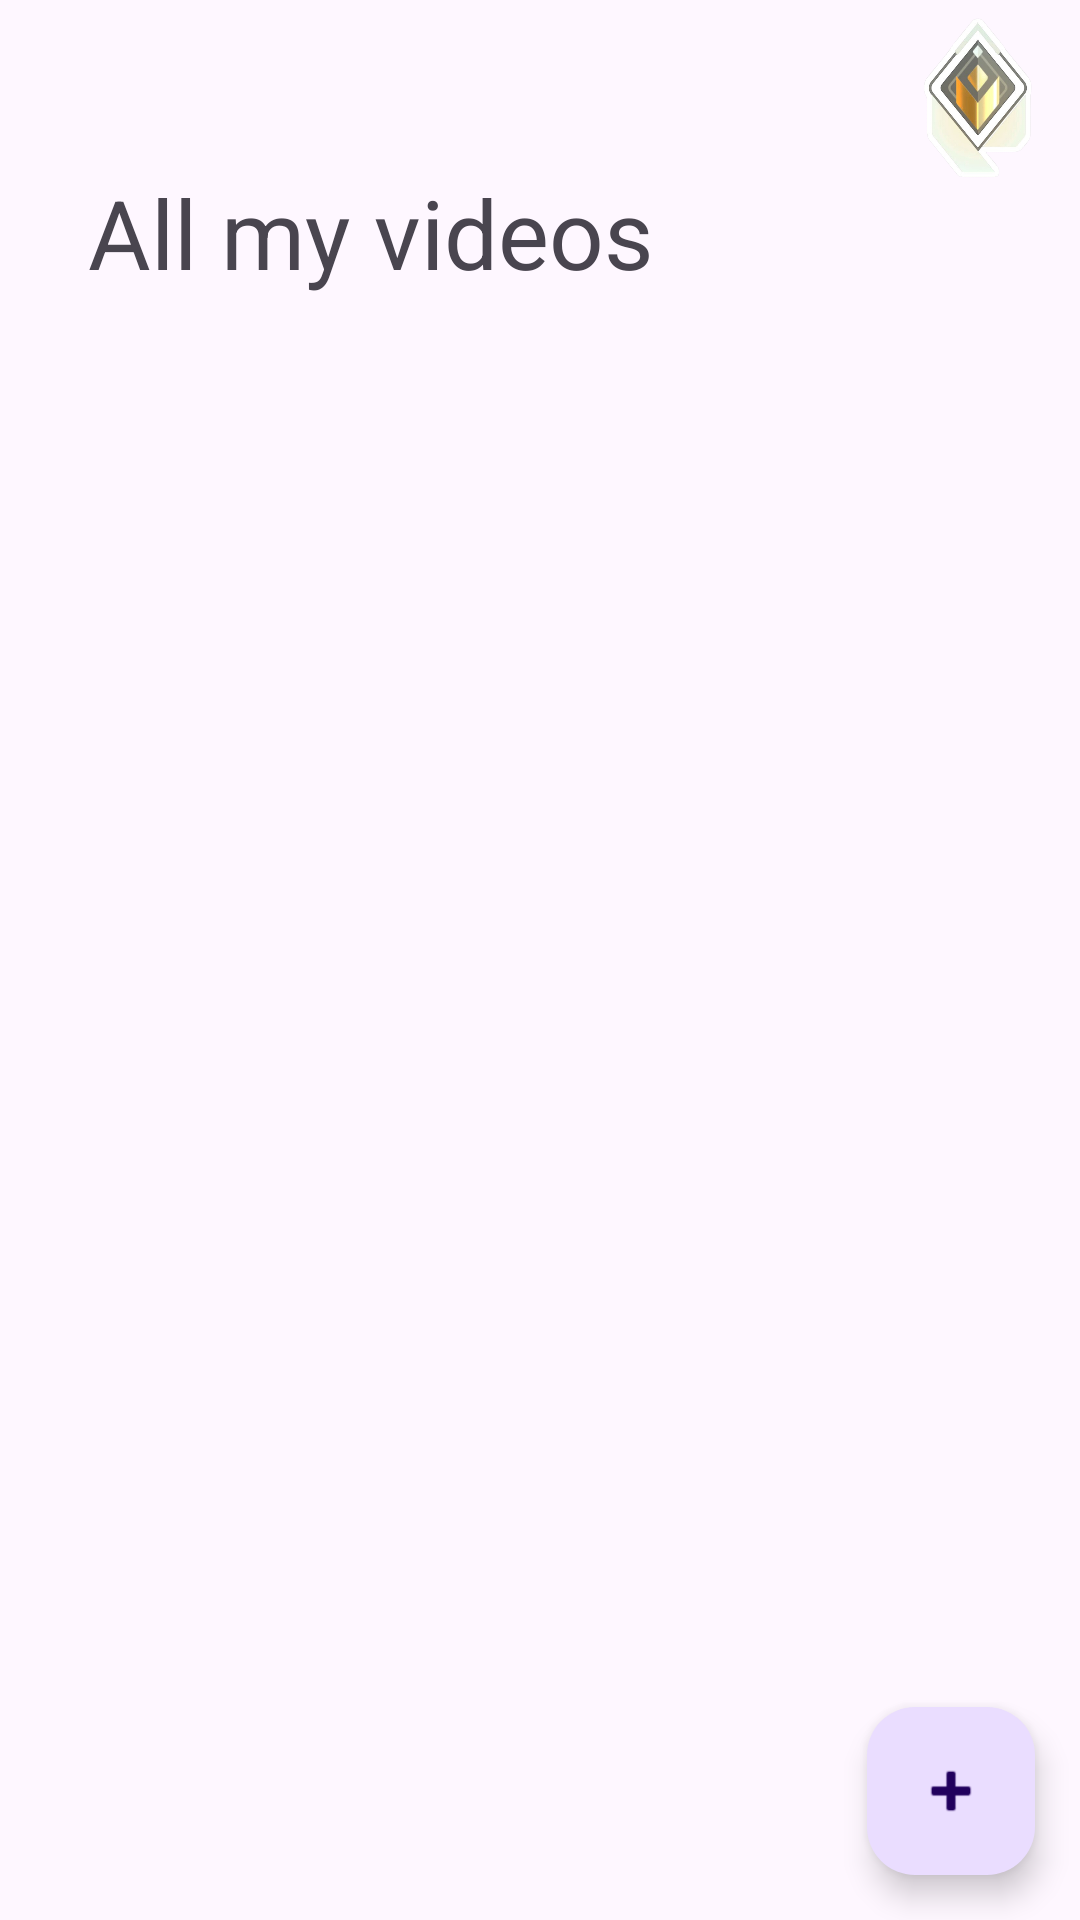

Where icons sit on this 1080x1920 app screen, as region(x1, y1, x2, y2):
add: region(867, 1707, 1035, 1875)
